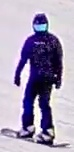snowboarder: (0, 13, 71, 148)
